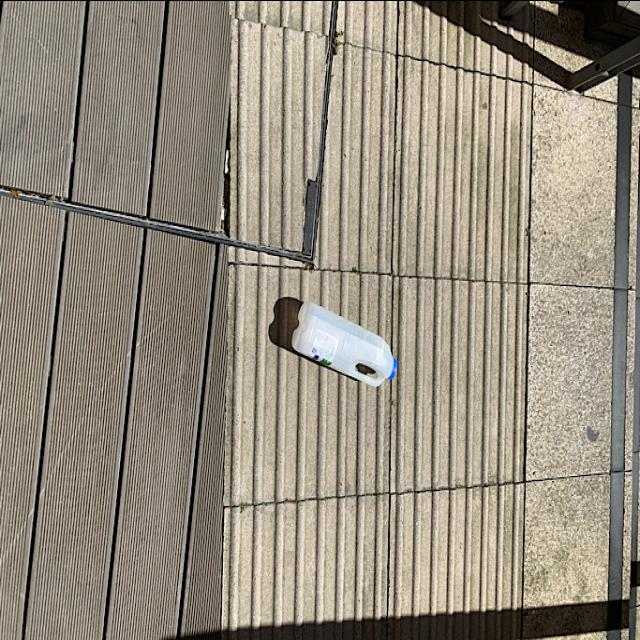litter: (292, 296, 399, 388)
